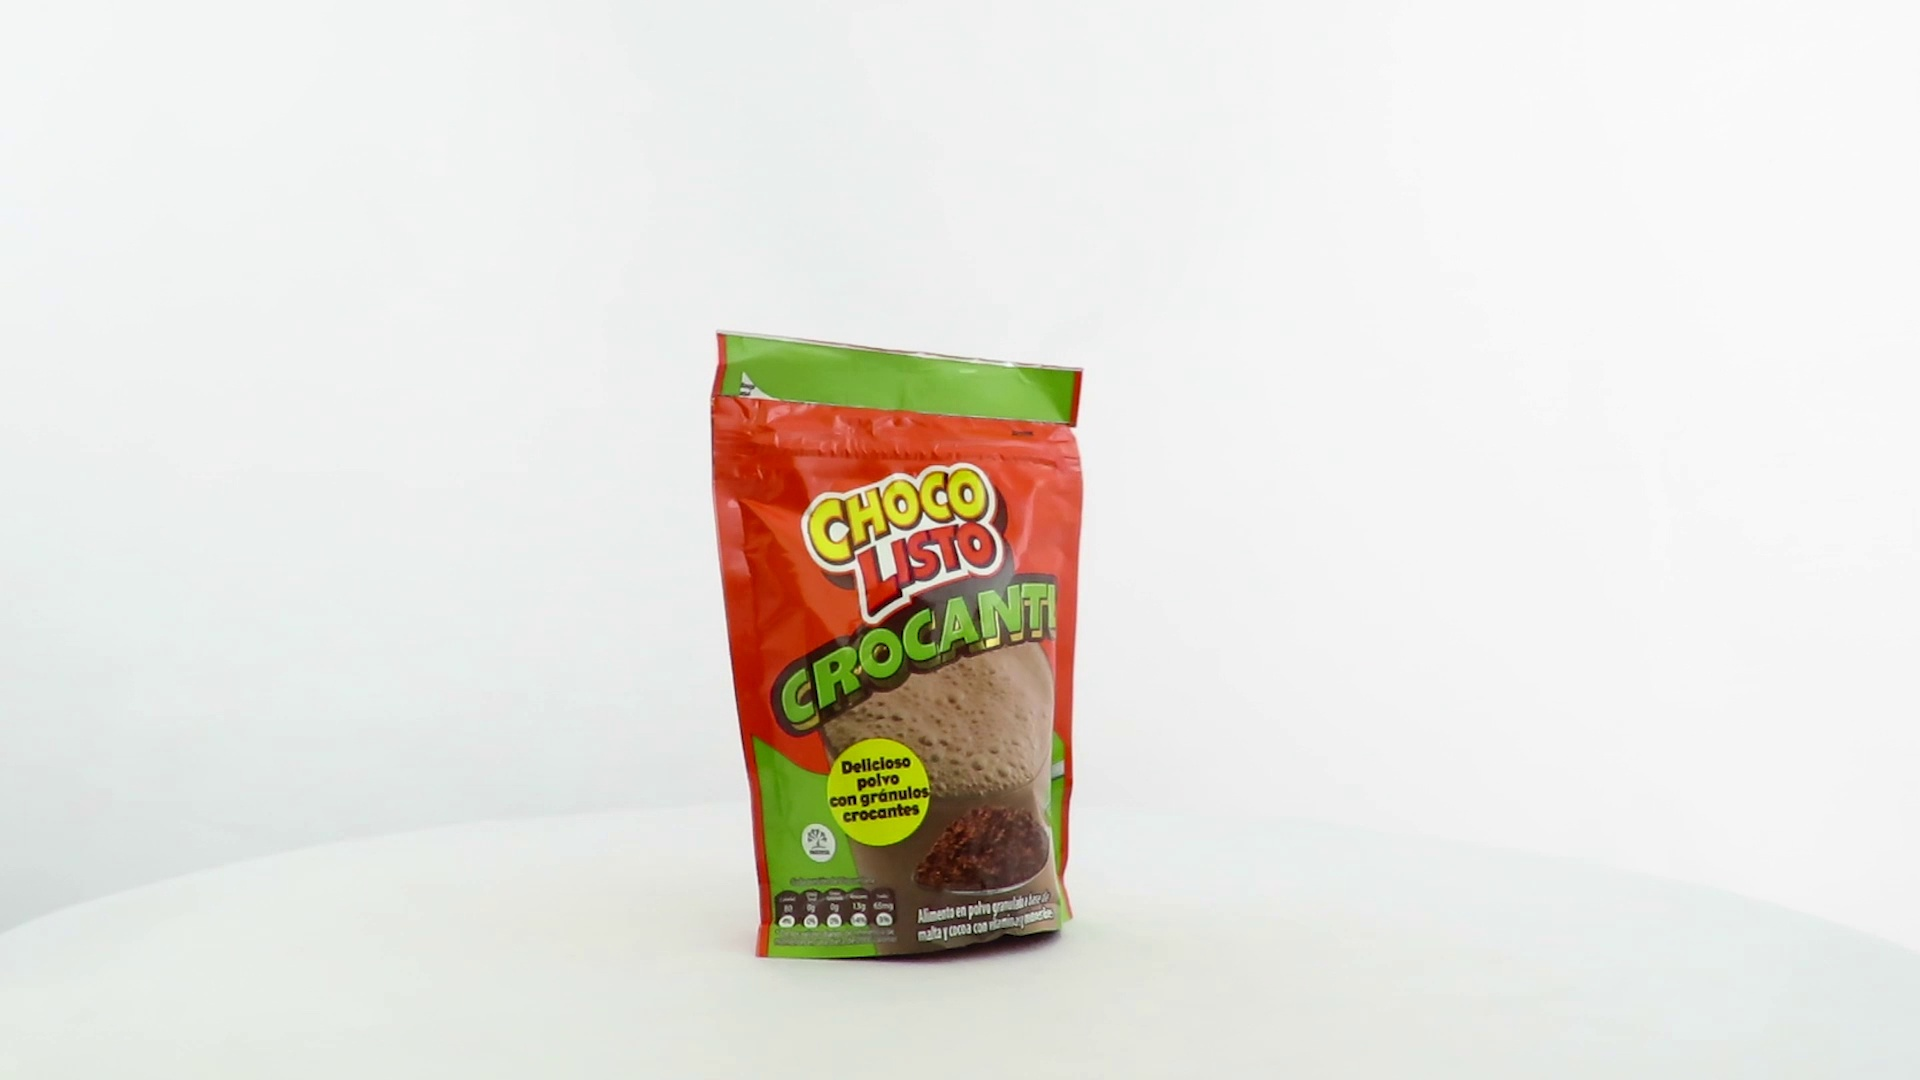COL0170102DYP10000: (705, 324, 1091, 971)
